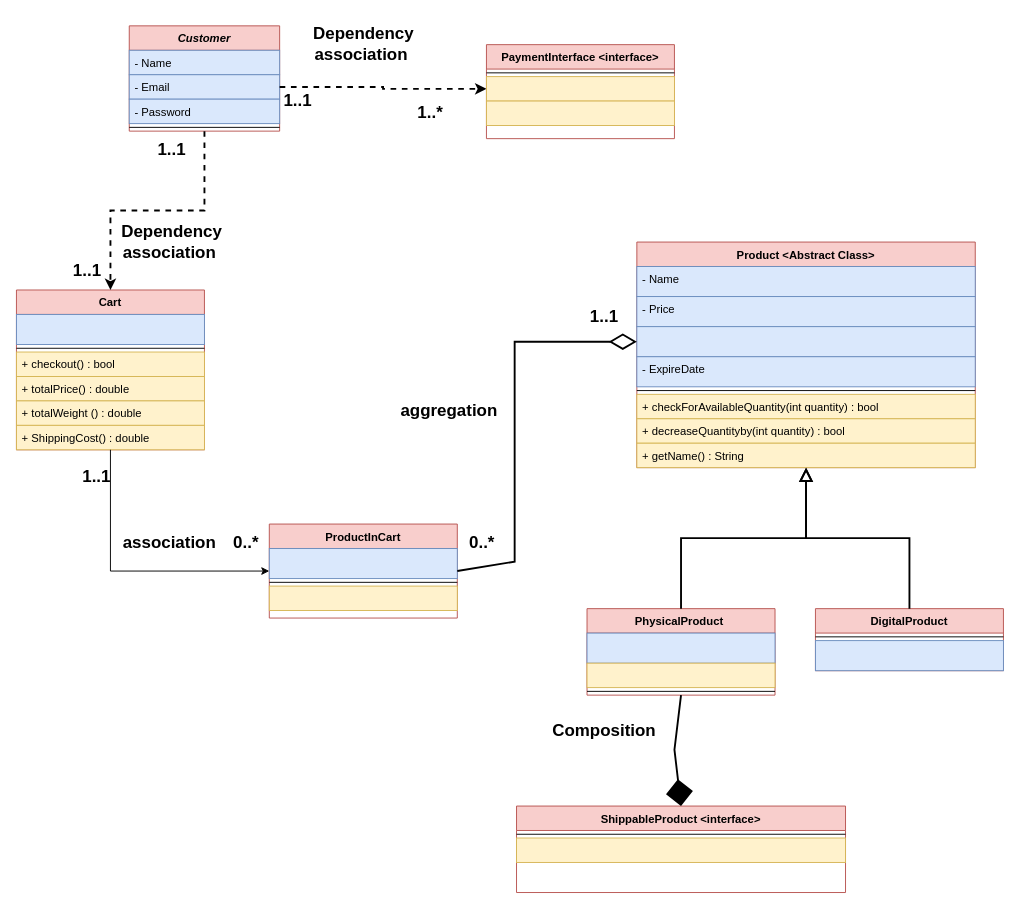
The diagram is 1020 pixels wide and 909 high, and some of its shapes have lost their labels. The shapes that lost their labels are listed below. From the top down, each one's centre as x and y in pixels, then its label:
the point at 580,88: + Charge() : bool
the point at 580,112: + Refund() : bool
the point at 110,329: - NumberOfEvents
the point at 805,341: - AvailableQuantity
the point at 362,563: - SelectedQuantity
the point at 362,598: + CalculateTotalPrice() : double
the point at 680,647: -weigth
the point at 909,655: - DigitalProductData
the point at 680,675: + getWeight() : double
the point at 681,849: + caculateShippingPrice() : double
